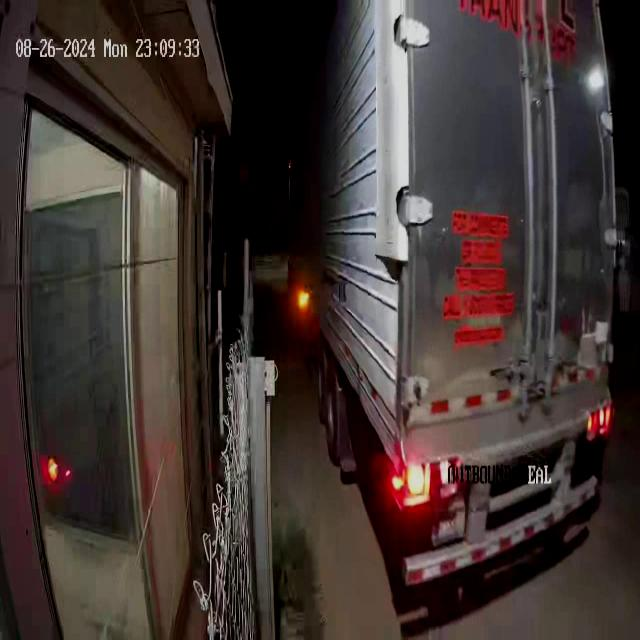CONTAINER: (295, 1, 619, 494)
